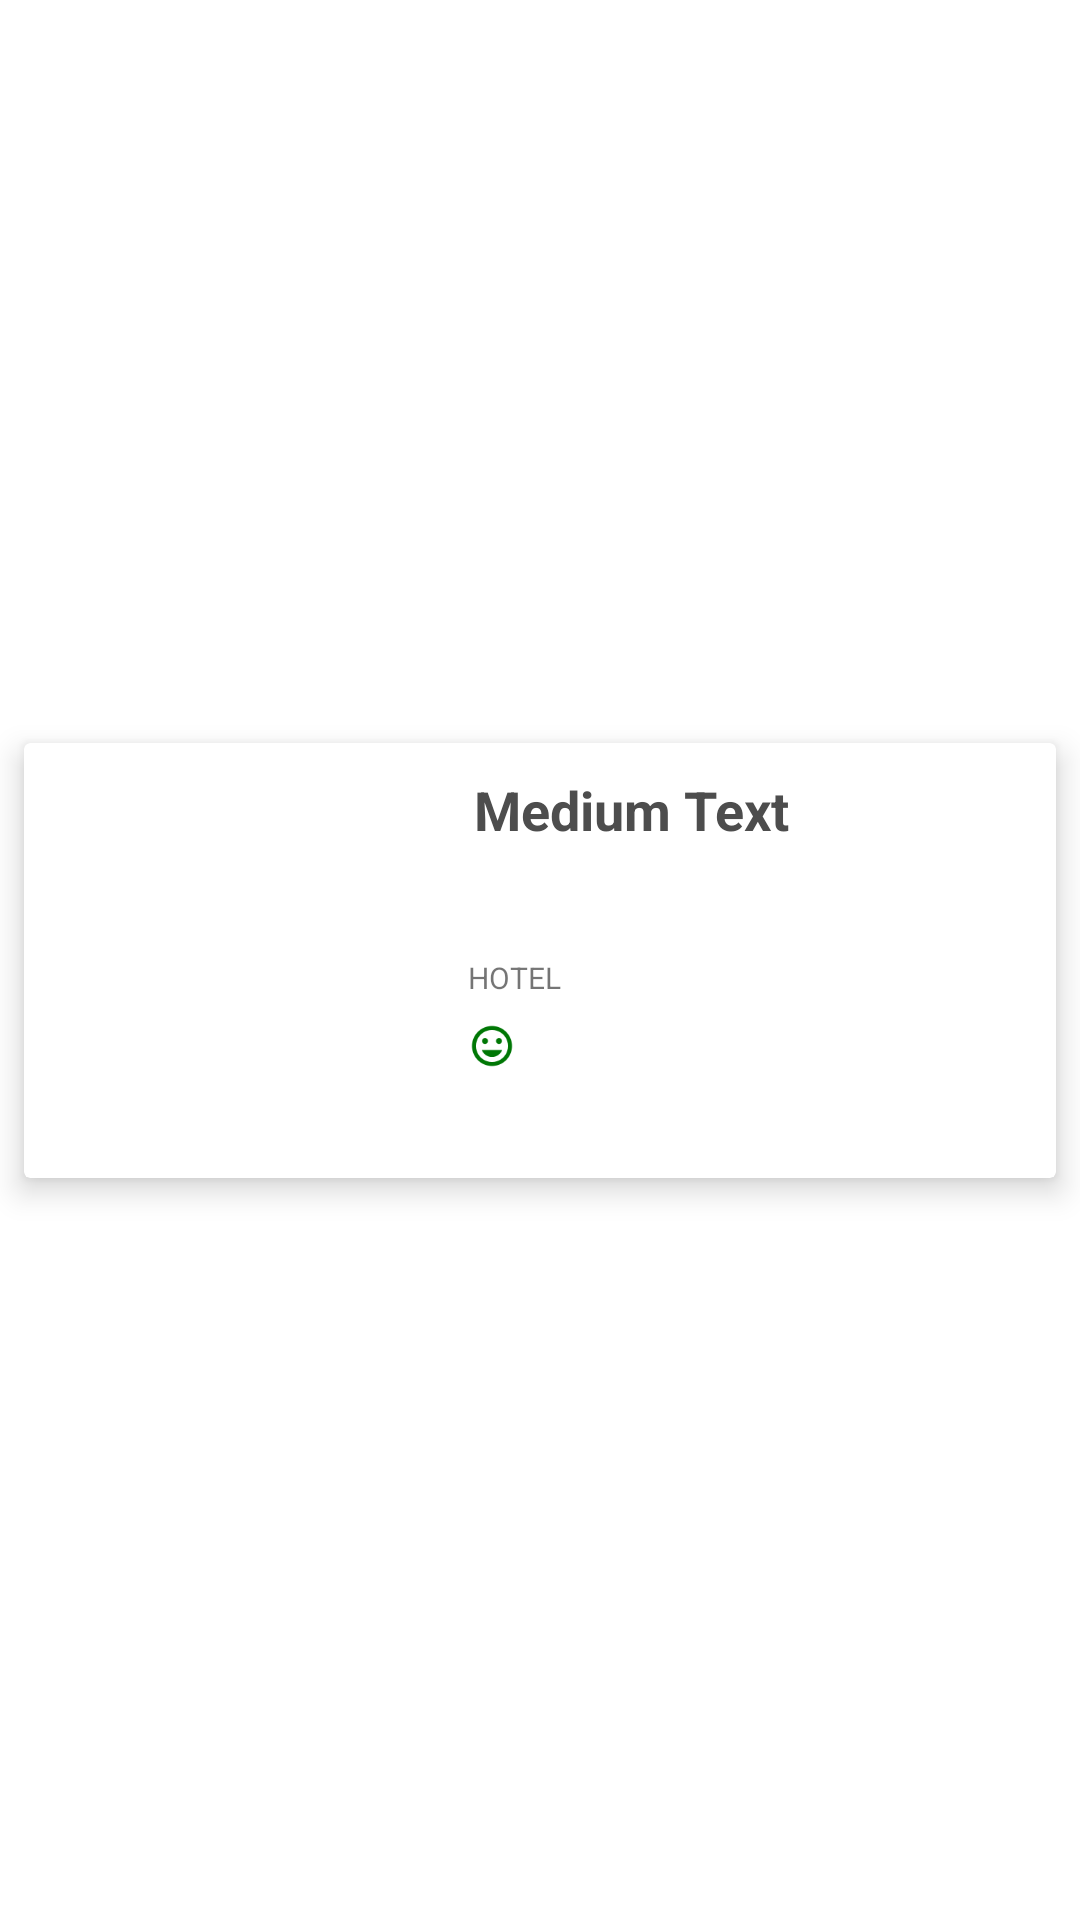

Where to tap for icons on this 1080 x 1920 app screen, as point (x, y):
tag faces: point (492, 1046)
